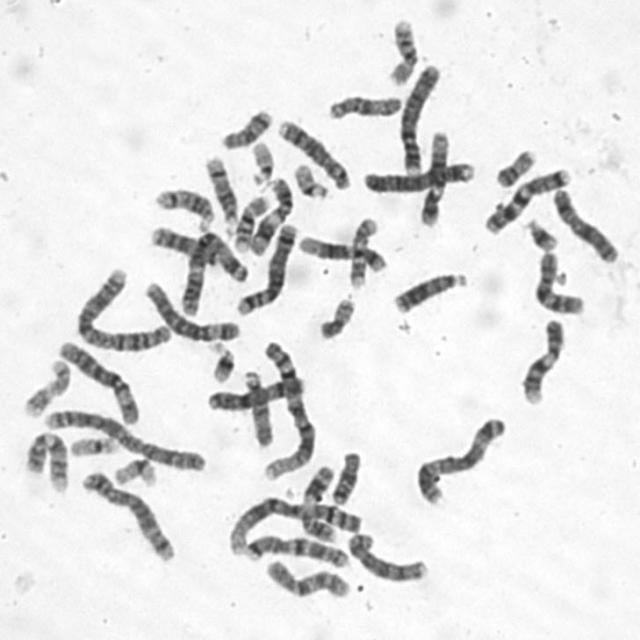A1: (221, 491, 362, 559), (256, 336, 318, 484)
A2: (38, 403, 209, 473), (69, 262, 175, 354)
A3: (410, 410, 509, 508), (174, 223, 247, 317)
B4: (394, 58, 444, 175), (357, 155, 477, 195)
B5: (76, 465, 178, 563), (231, 217, 299, 317)
C10: (260, 554, 352, 602), (528, 245, 586, 316)
C11: (243, 170, 295, 257), (296, 459, 339, 544)
C12: (294, 230, 389, 272), (414, 126, 451, 227)
C6: (51, 334, 141, 427), (138, 275, 240, 344)
C7: (478, 162, 572, 236), (240, 530, 351, 570)
C8: (272, 112, 352, 192), (342, 527, 430, 585)
C9: (516, 313, 567, 407), (19, 425, 71, 494)
D13: (146, 220, 232, 276), (388, 265, 470, 316)
D14: (198, 150, 240, 229), (149, 182, 216, 229)
D15: (238, 365, 275, 449), (321, 88, 404, 121)
E16: (382, 12, 420, 87), (228, 190, 272, 253)
E17: (16, 352, 72, 419), (343, 212, 381, 290)
E18: (215, 102, 274, 151), (326, 446, 364, 507)
F19: (109, 453, 159, 488), (65, 429, 120, 458)
F20: (490, 143, 539, 189), (314, 291, 358, 341)
G21: (205, 338, 237, 385), (522, 213, 560, 252)
G22: (288, 157, 331, 200), (243, 134, 276, 188)
X: (547, 182, 622, 265), (202, 371, 307, 413)
